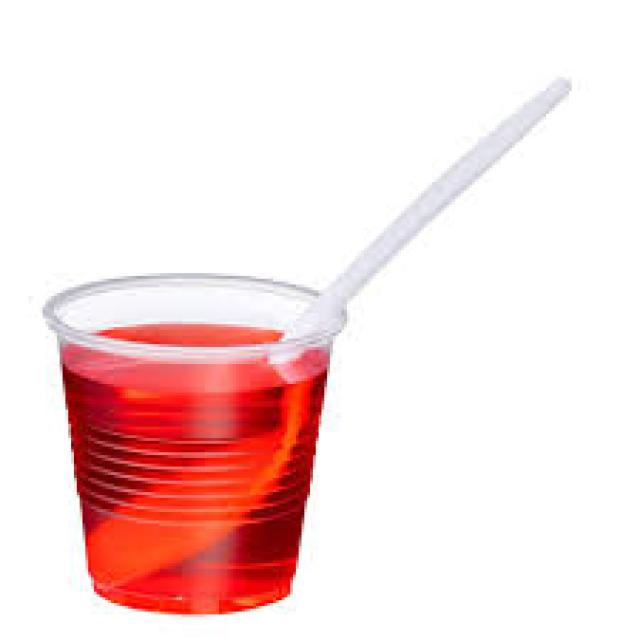cup: (41, 252, 353, 634)
